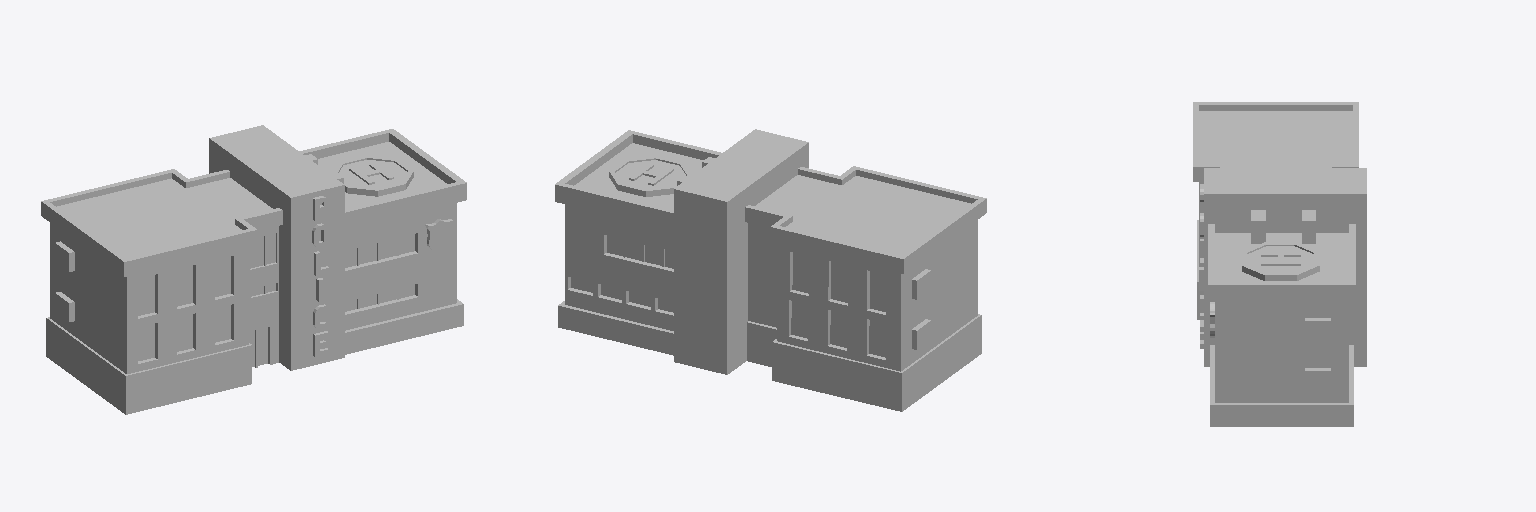
File: PoliceStation.obj
3 renders of one model, left to right at view 1: azimuth 30°, elevation 25°; view 2: azimuth 150°, elevation 25°; view 3: azimuth 270°, elevation 25°, orthographic.
Parts seen in each view (by area): view 1: City_Police_Station; view 2: City_Police_Station; view 3: City_Police_Station.
Part boxes in pixels (x1,y1,x2,y2): City_Police_Station: (41, 125, 466, 414); City_Police_Station: (555, 129, 986, 411); City_Police_Station: (1193, 102, 1366, 426).
Bounding box in the file's own units: 1.43 × 0.6778 × 0.6184.